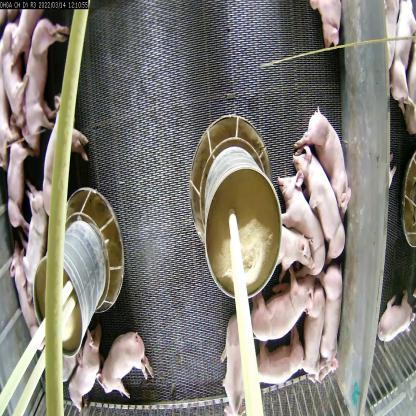Pig: (37, 75, 88, 219), (276, 174, 334, 276), (300, 147, 348, 265), (242, 266, 310, 349), (24, 21, 65, 148), (300, 114, 354, 209), (93, 333, 160, 409), (251, 328, 311, 392), (62, 327, 107, 406), (0, 27, 35, 122), (0, 128, 31, 234), (16, 176, 42, 300), (226, 316, 257, 415), (301, 290, 330, 391), (324, 264, 350, 369), (268, 223, 310, 282)
